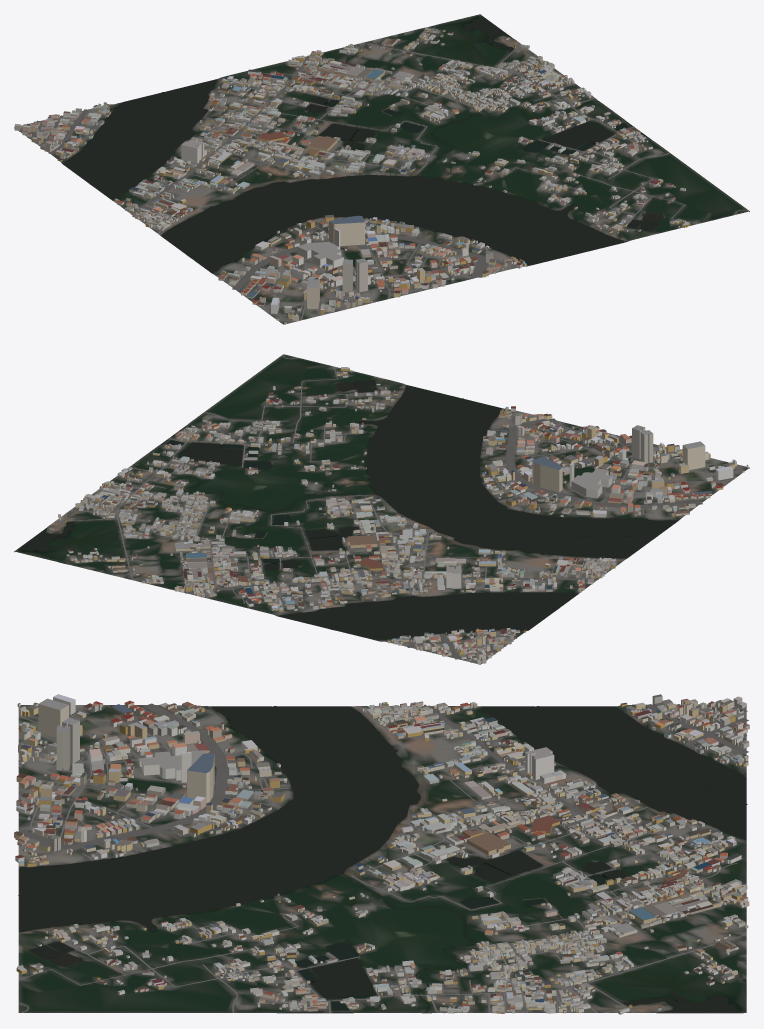
3 renders of one model, top to bottom at view 1: azimuth 30°, elevation 25°; view 2: azimuth 150°, elevation 25°; view 3: azimuth 270°, elevation 25°, orthographic. The views are drawn at different scales.
Visible parts, largest first — view 1: ground, buildings, water, roads; view 2: ground, buildings, water, roads; view 3: ground, buildings, water, roads.
Part boxes in pixels (x1,y1,x2,y2): ground: (14, 14, 749, 324); buildings: (14, 28, 690, 324); water: (63, 16, 663, 273); roads: (19, 41, 748, 319); ground: (14, 354, 749, 664); buildings: (49, 367, 748, 663); water: (17, 380, 677, 640); roads: (55, 355, 736, 662); ground: (18, 704, 746, 1013); buildings: (14, 694, 749, 1014); water: (18, 706, 747, 1012); roads: (18, 703, 748, 1013).
Size of the model in its own units: 1416 by 88.77 by 1416.
